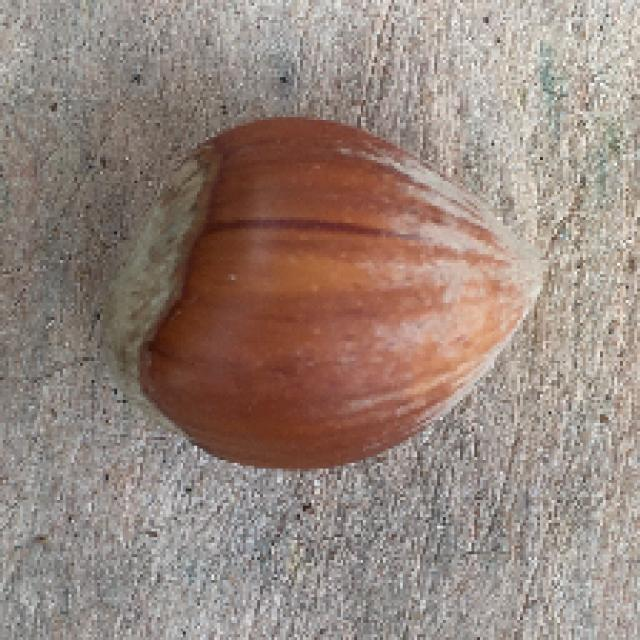qualityHazelnut: (100, 104, 556, 472)
